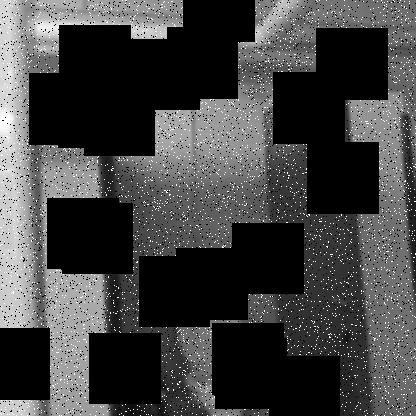Porte: (96, 61, 378, 416)
